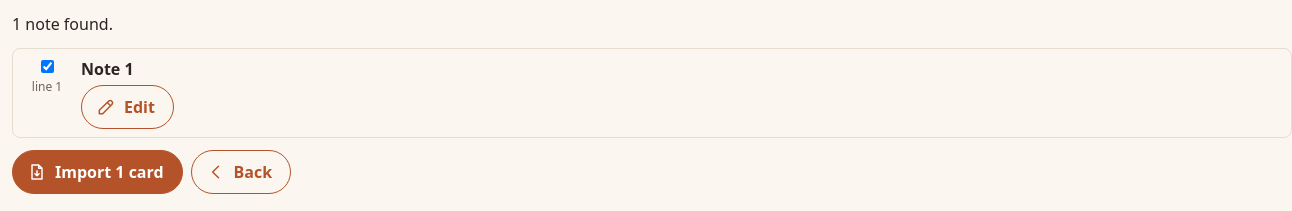
ImportPreview (D189) › disables Import when nothing is ticked
The image size is (1292, 211).
Click the checkbox named "Import line 1".
click(48, 66)  # box [41,60,54,73]
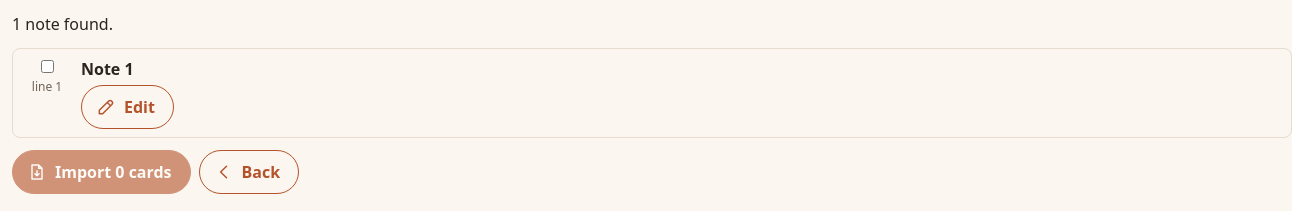
Now the button "Import 0 cards" is disabled, box [12,150,191,194]
